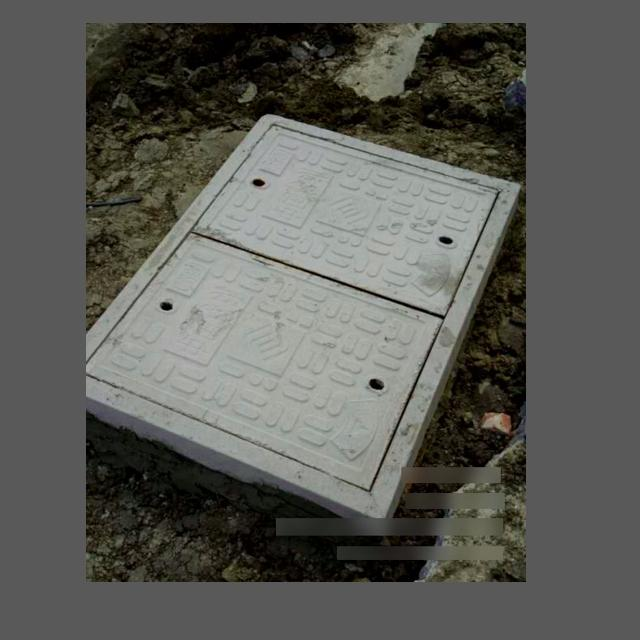good: (88, 115, 513, 518)
